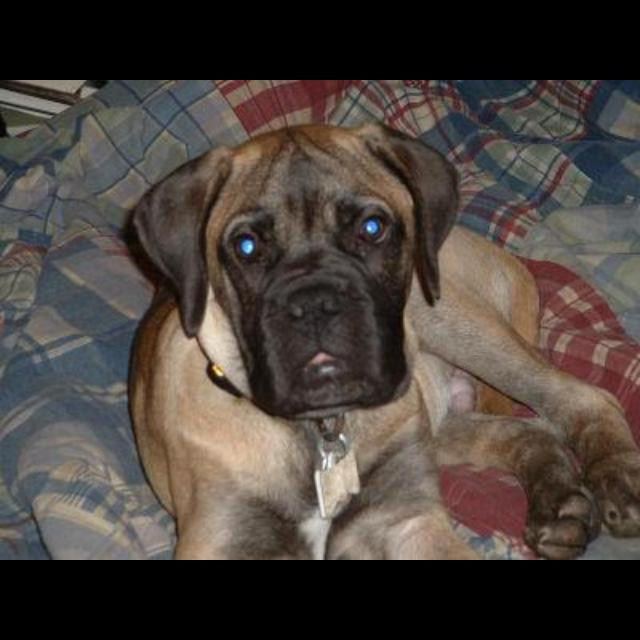bullmastiff: (121, 119, 639, 559)
